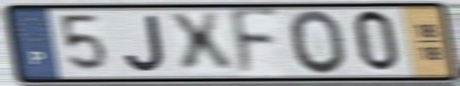0: (350, 7, 404, 77)
5: (54, 12, 111, 75)
F: (227, 6, 284, 80)
J: (121, 12, 169, 74)
O: (286, 8, 350, 77)
X: (164, 11, 239, 76)
